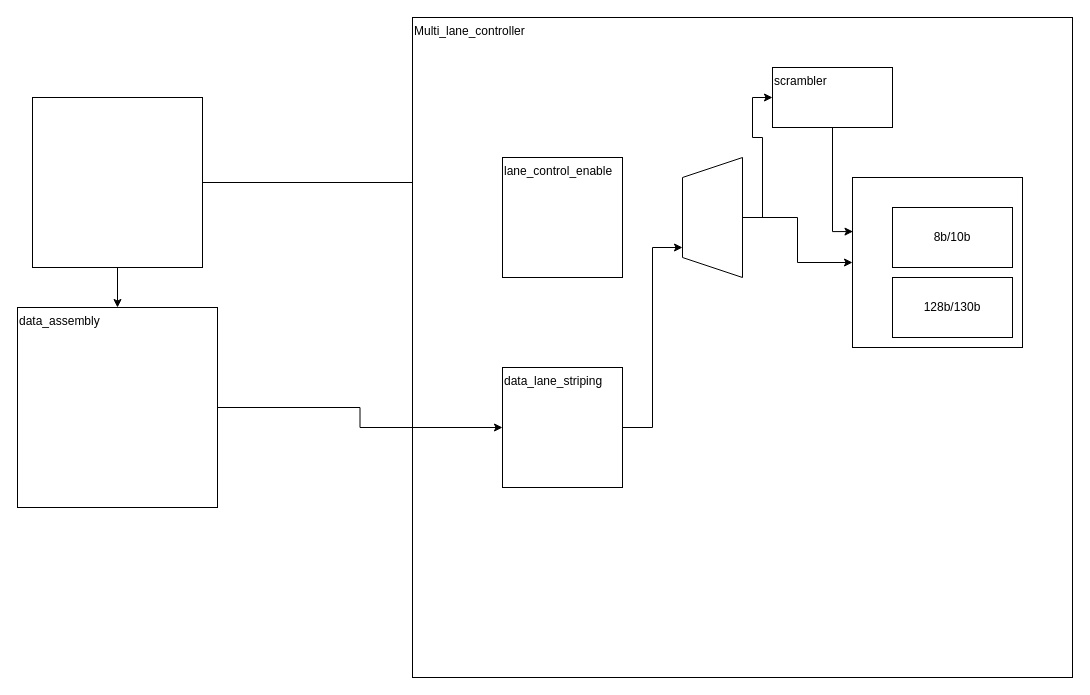
Image size: 1090x695. Some labels were removed from this diagram. Each missing label, with the box of its shape:
controller_ltssm: (32, 96, 202, 268)
encoder: (852, 176, 1022, 348)
scrambler_mux: (682, 156, 742, 278)
